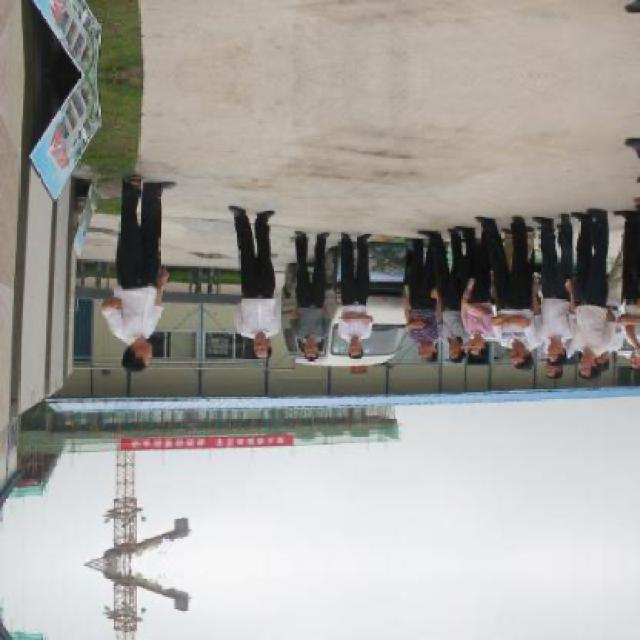sin casco: (101, 327, 181, 378), (235, 322, 279, 367), (446, 315, 484, 366), (470, 336, 516, 376), (331, 329, 371, 372), (284, 322, 328, 360), (524, 334, 573, 368), (422, 330, 462, 370), (539, 338, 572, 382), (393, 338, 423, 378)
